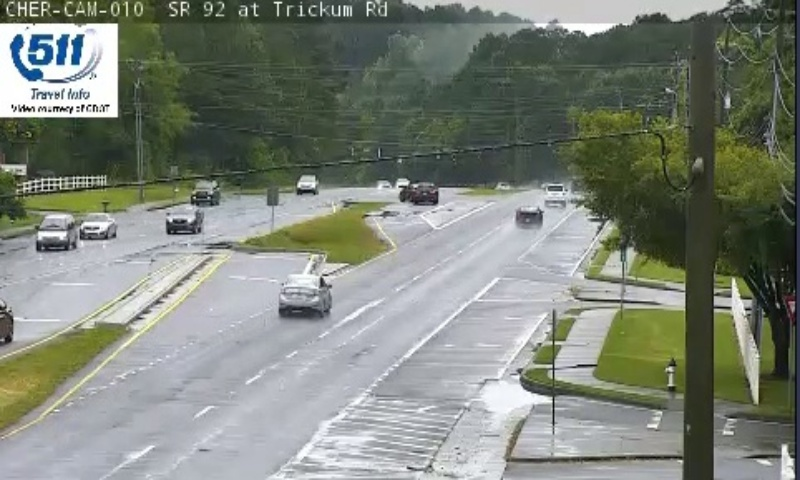car: (280, 274, 330, 312), (515, 205, 543, 231)
